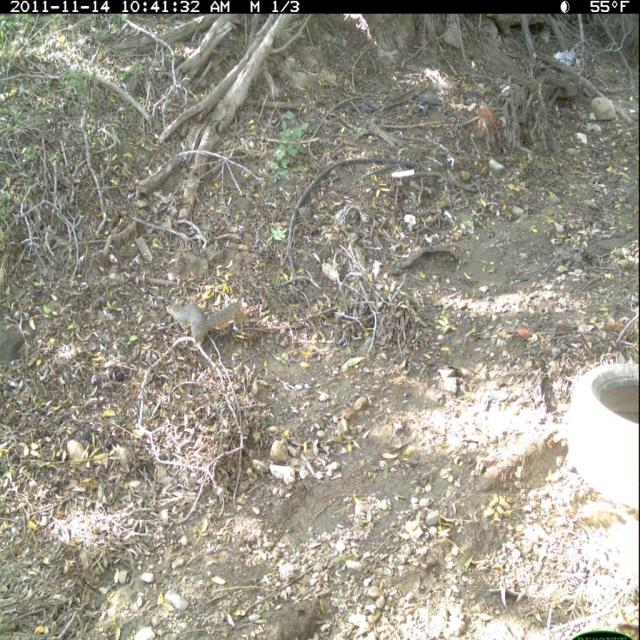squirrel: (160, 282, 249, 358)
